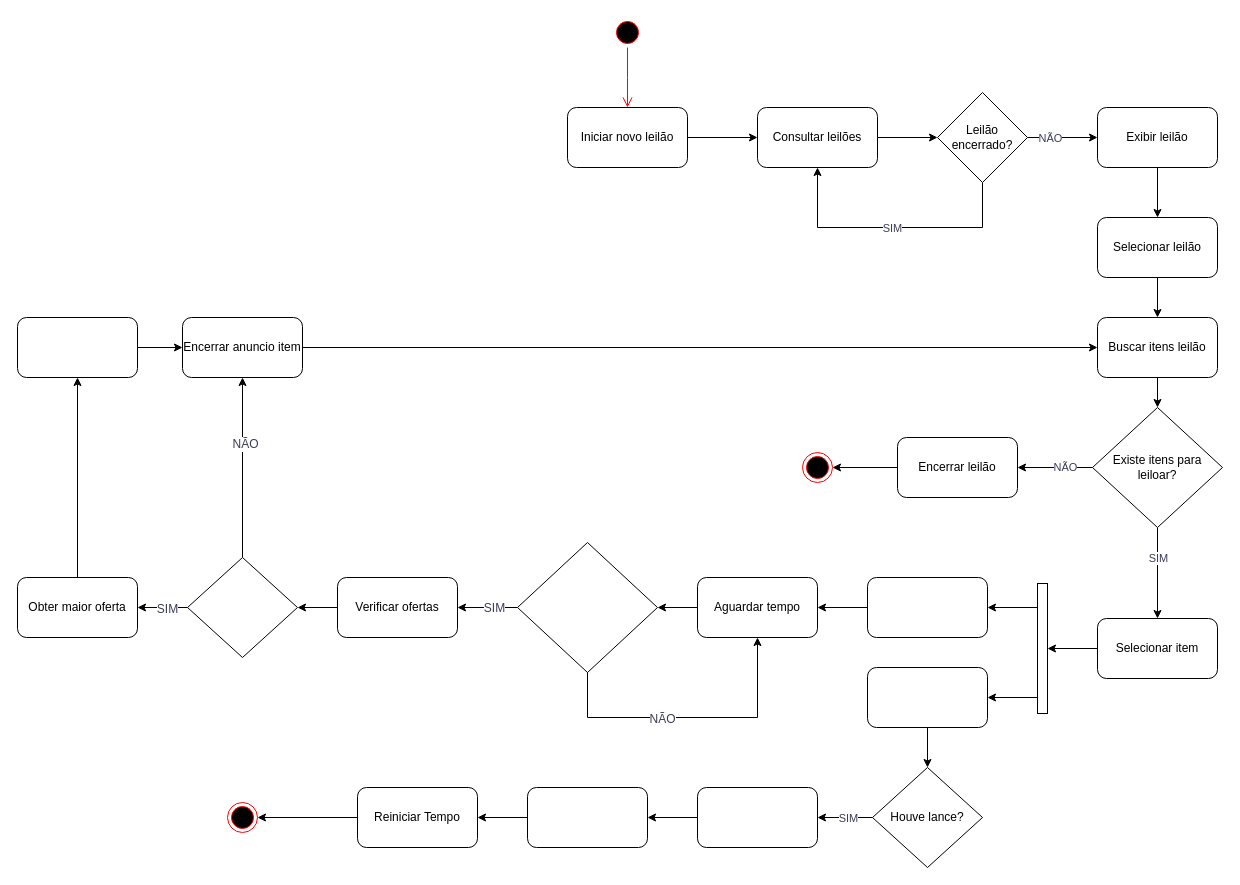
Image size: 1240x885. Some labels were removed from this diagram. The shapes that lost their labels are listed below. From the top down, each one's centre as x and y in pixels, then its label:
At (x=77, y=347): "Anunciar vendedor".
At (x=242, y=607): "Houve ofertas?".
At (x=587, y=607): "Esgotou o tempo máximo?".
At (x=927, y=607): "Iniciar tempo leilão".
At (x=927, y=697): "Iniciar leilão".
At (x=587, y=817): "Registrar lance".
At (x=757, y=817): "Anunciar lance".
